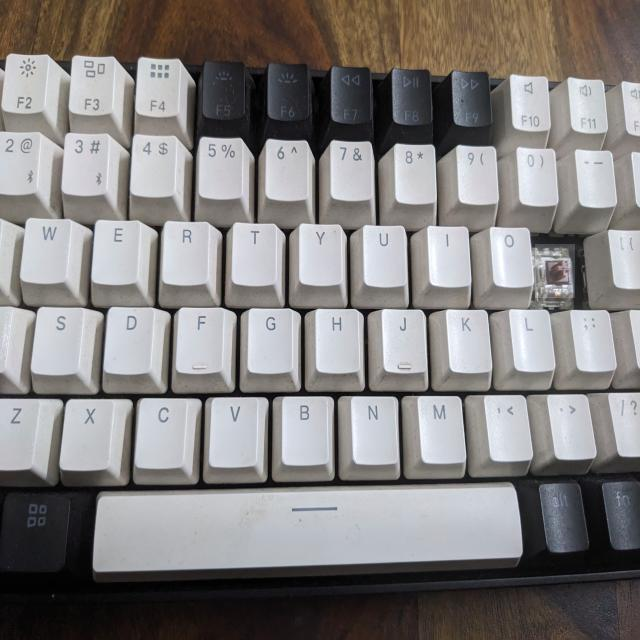C: (535, 244, 575, 298)
